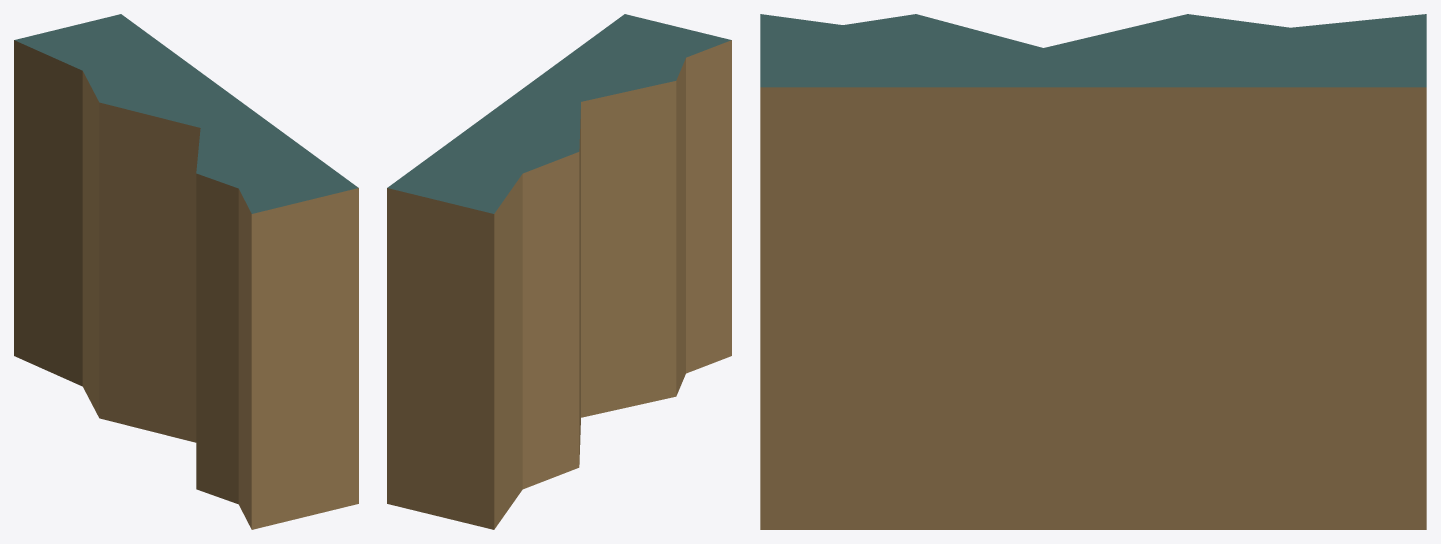
The model's file is Brown_Cliff_Green_Top_01.obj.
3 renders of one model, left to right at view 1: azimuth 30°, elevation 25°; view 2: azimuth 150°, elevation 25°; view 3: azimuth 270°, elevation 25°, orthographic. The views are drawn at different scales.
Parts seen in each view (by area): view 1: Mesh1 Brown_Cliff_Green_Top Model; view 2: Mesh1 Brown_Cliff_Green_Top Model; view 3: Mesh1 Brown_Cliff_Green_Top Model.
Part boxes in pixels (x1,y1,x2,y2): Mesh1 Brown_Cliff_Green_Top Model: (14,14,358,529); Mesh1 Brown_Cliff_Green_Top Model: (387,14,731,529); Mesh1 Brown_Cliff_Green_Top Model: (760,14,1426,529).
Bounding box in the file's own units: 0.78 × 2.2 × 3.
1 material, 1 textured.
